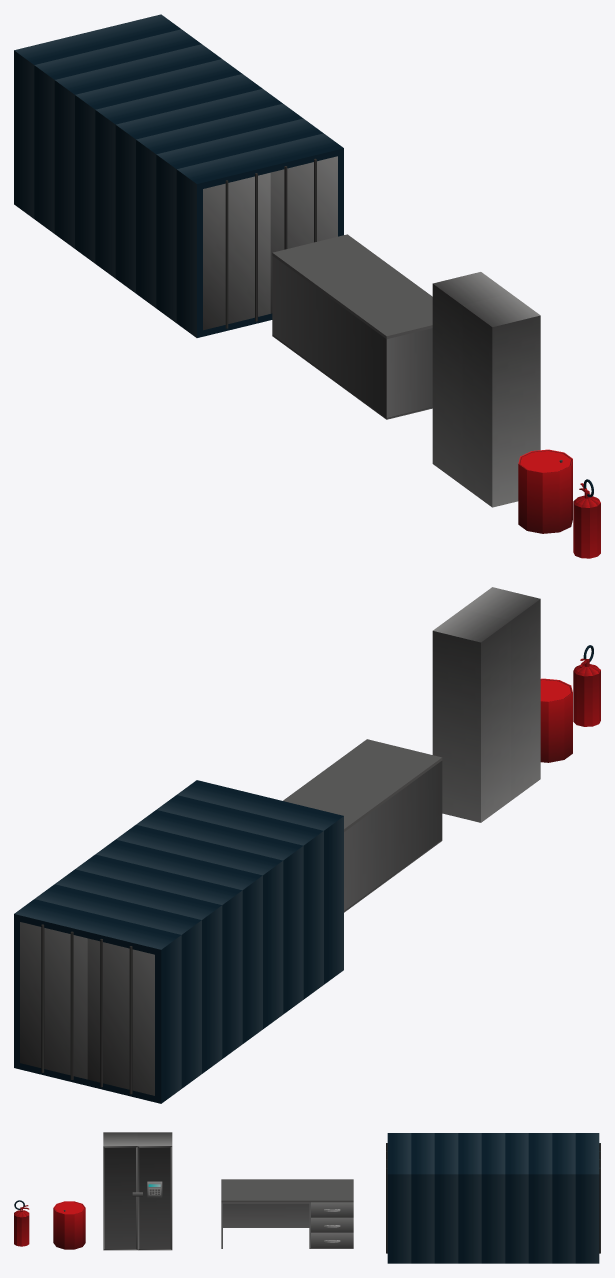
The model's file is simples.fbx.
The picture shows the model from 3 angles, top to bottom: view 1: azimuth 30°, elevation 25°; view 2: azimuth 150°, elevation 25°; view 3: azimuth 270°, elevation 25°; orthographic projection. The views are drawn at different scales.
Visible parts, largest first — view 1: Conteiner, Armario, Mesa, Barril, Extintor; view 2: Conteiner, Armario, Mesa, Barril, Extintor; view 3: Conteiner, Armario, Mesa, Barril, Extintor.
Boxes of the visible parts, x1,y1,x2,y2 form: Conteiner: [14, 14, 343, 337]; Armario: [432, 272, 540, 507]; Mesa: [272, 234, 432, 419]; Barril: [518, 449, 572, 533]; Extintor: [573, 479, 600, 558]; Conteiner: [14, 780, 343, 1103]; Armario: [432, 587, 540, 822]; Mesa: [283, 739, 442, 912]; Barril: [540, 678, 572, 762]; Extintor: [573, 645, 600, 726]; Conteiner: [386, 1133, 600, 1263]; Armario: [103, 1132, 172, 1250]; Mesa: [221, 1179, 353, 1248]; Barril: [53, 1201, 85, 1249]; Extintor: [14, 1200, 29, 1246].
Size of the model in its own units: 609 by 713 by 3636.
